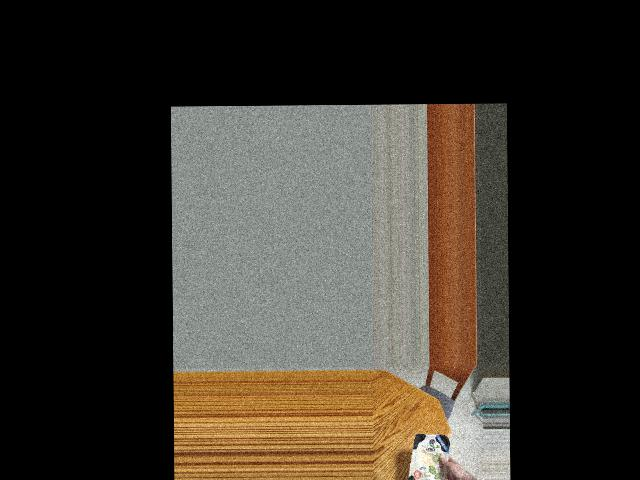cheese: (407, 426, 452, 480)
